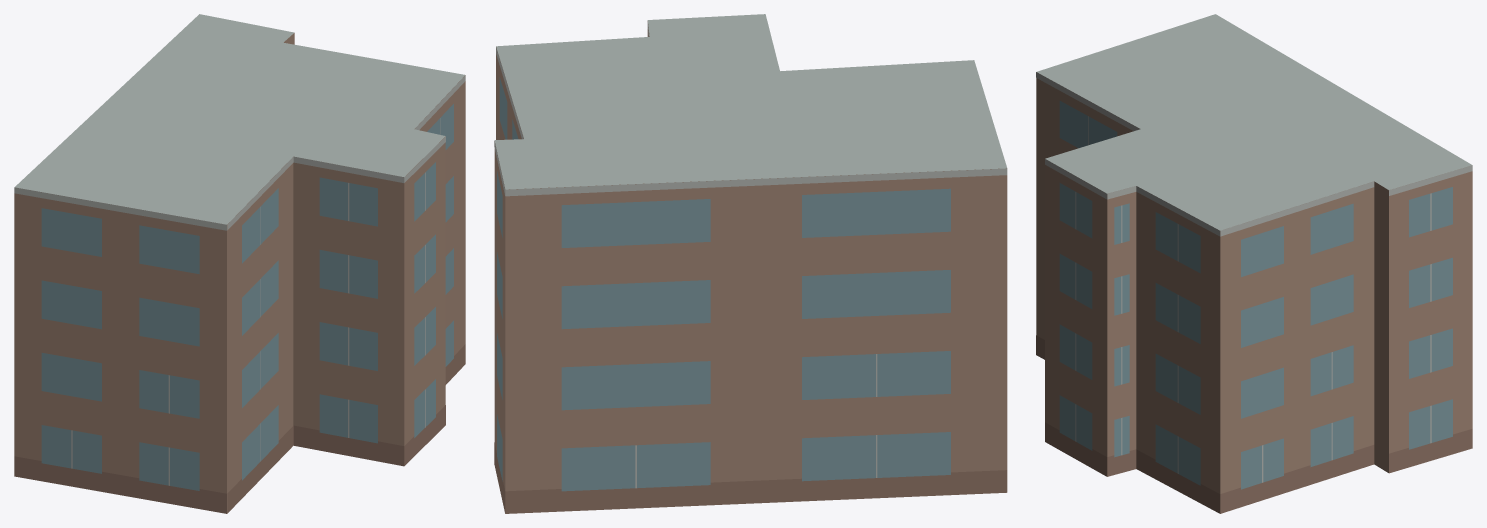
Rendered from survey-upis-32921816.glb.
The picture shows the model from 3 angles, left to right: view 1: azimuth 30°, elevation 25°; view 2: azimuth 150°, elevation 25°; view 3: azimuth 270°, elevation 25°; orthographic projection. The views are drawn at different scales.
Parts seen in each view (by area): view 1: survey-upis-32921816.tmp; view 2: survey-upis-32921816.tmp; view 3: survey-upis-32921816.tmp.
Part boxes in pixels (box(x1,y1,x2,y2)): survey-upis-32921816.tmp: box(14, 14, 465, 513); survey-upis-32921816.tmp: box(494, 14, 1007, 513); survey-upis-32921816.tmp: box(1036, 14, 1472, 513).
Size of the model in its own units: 19.22 by 11.7 by 16.35.
